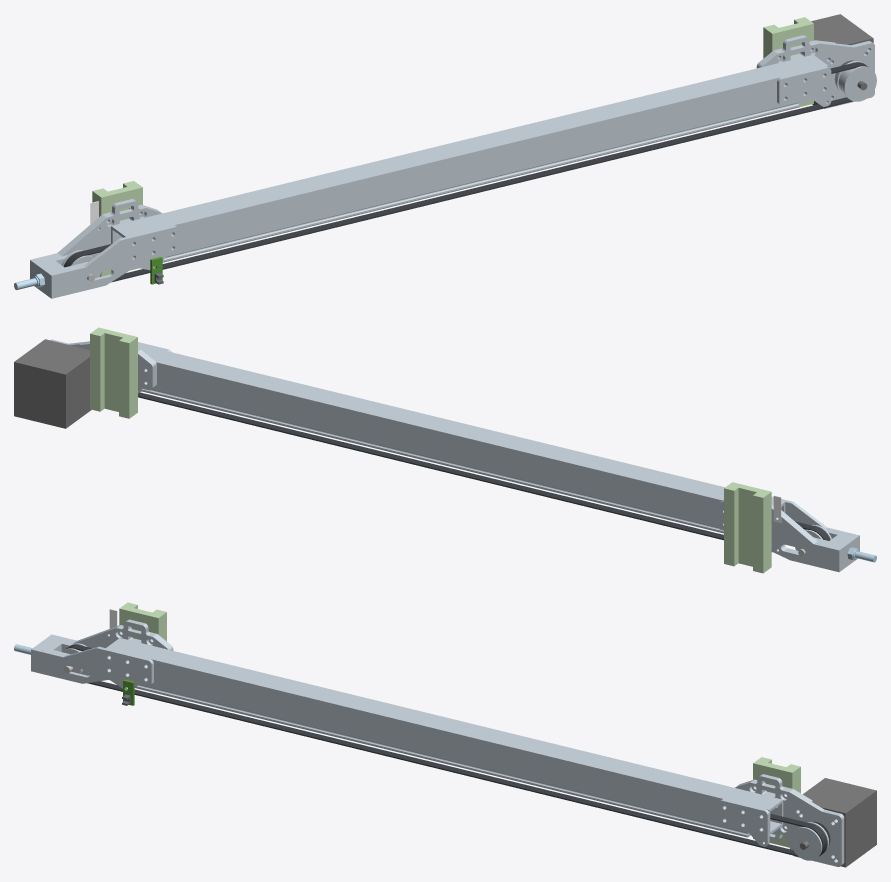
File: gantry.obj
3 views of the same model, one above another, from view 1: azimuth 30°, elevation 25°; view 2: azimuth 150°, elevation 25°; view 3: azimuth 330°, elevation 25° (orthographic). The views are drawn at different scales.
Visible parts, largest first — view 1: mesh504, mesh499, mesh383, mesh457, mesh299, mesh298, mesh146, mesh387, mesh36, mesh180, mesh300, mesh282 (+3 smaller); view 2: mesh487, mesh499, mesh9, mesh383, mesh184, mesh199, mesh297, mesh296, mesh182, mesh188, mesh6, mesh7 (+6 smaller); view 3: mesh504, mesh499, mesh383, mesh457, mesh146, mesh299, mesh298, mesh5, mesh6, mesh387, mesh36, mesh180 (+4 smaller).
Boxes of the visible parts, box(x1,y1,x2,y2) form: mesh504: box(171, 66, 828, 251); mesh499: box(111, 54, 827, 236); mesh383: box(115, 97, 850, 279); mesh457: box(57, 227, 179, 297); mesh299: box(163, 102, 798, 260); mesh298: box(167, 102, 798, 256); mesh146: box(762, 37, 874, 108); mesh387: box(70, 65, 867, 282); mesh36: box(779, 68, 831, 106); mesh180: box(101, 24, 813, 276); mesh300: box(162, 105, 799, 261); mesh282: box(62, 201, 161, 256); mesh487: box(155, 362, 722, 524); mesh499: box(138, 344, 784, 504); mesh9: box(14, 362, 65, 428); mesh383: box(138, 392, 723, 538); mesh184: box(104, 333, 756, 566); mesh199: box(717, 501, 834, 570); mesh297: box(142, 389, 723, 531); mesh296: box(152, 387, 717, 527); mesh182: box(90, 333, 763, 573); mesh188: box(119, 341, 734, 566); mesh6: box(14, 339, 89, 374); mesh7: box(66, 357, 91, 428); mesh504: box(151, 659, 768, 823); mesh499: box(106, 638, 782, 809); mesh383: box(91, 681, 796, 854); mesh457: box(36, 648, 151, 689); mesh146: box(735, 776, 841, 866); mesh299: box(137, 684, 747, 835); mesh298: box(141, 684, 746, 832); mesh5: box(845, 791, 876, 867); mesh6: box(803, 778, 876, 813); mesh387: box(67, 647, 822, 856); mesh36: box(718, 800, 767, 846); mesh180: box(119, 608, 792, 847).
Bounding box in the file's own units: 0.6676 × 0.0625 × 0.078.
